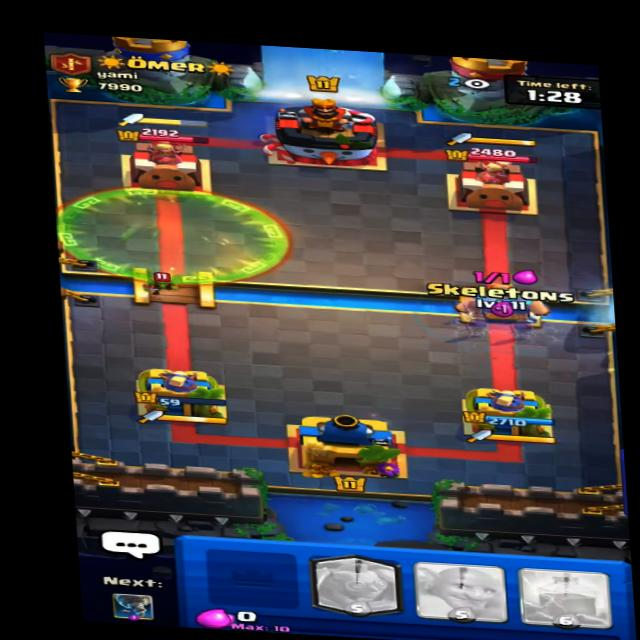goblin: (141, 267, 189, 297)
goblin-curse: (53, 178, 291, 293)
